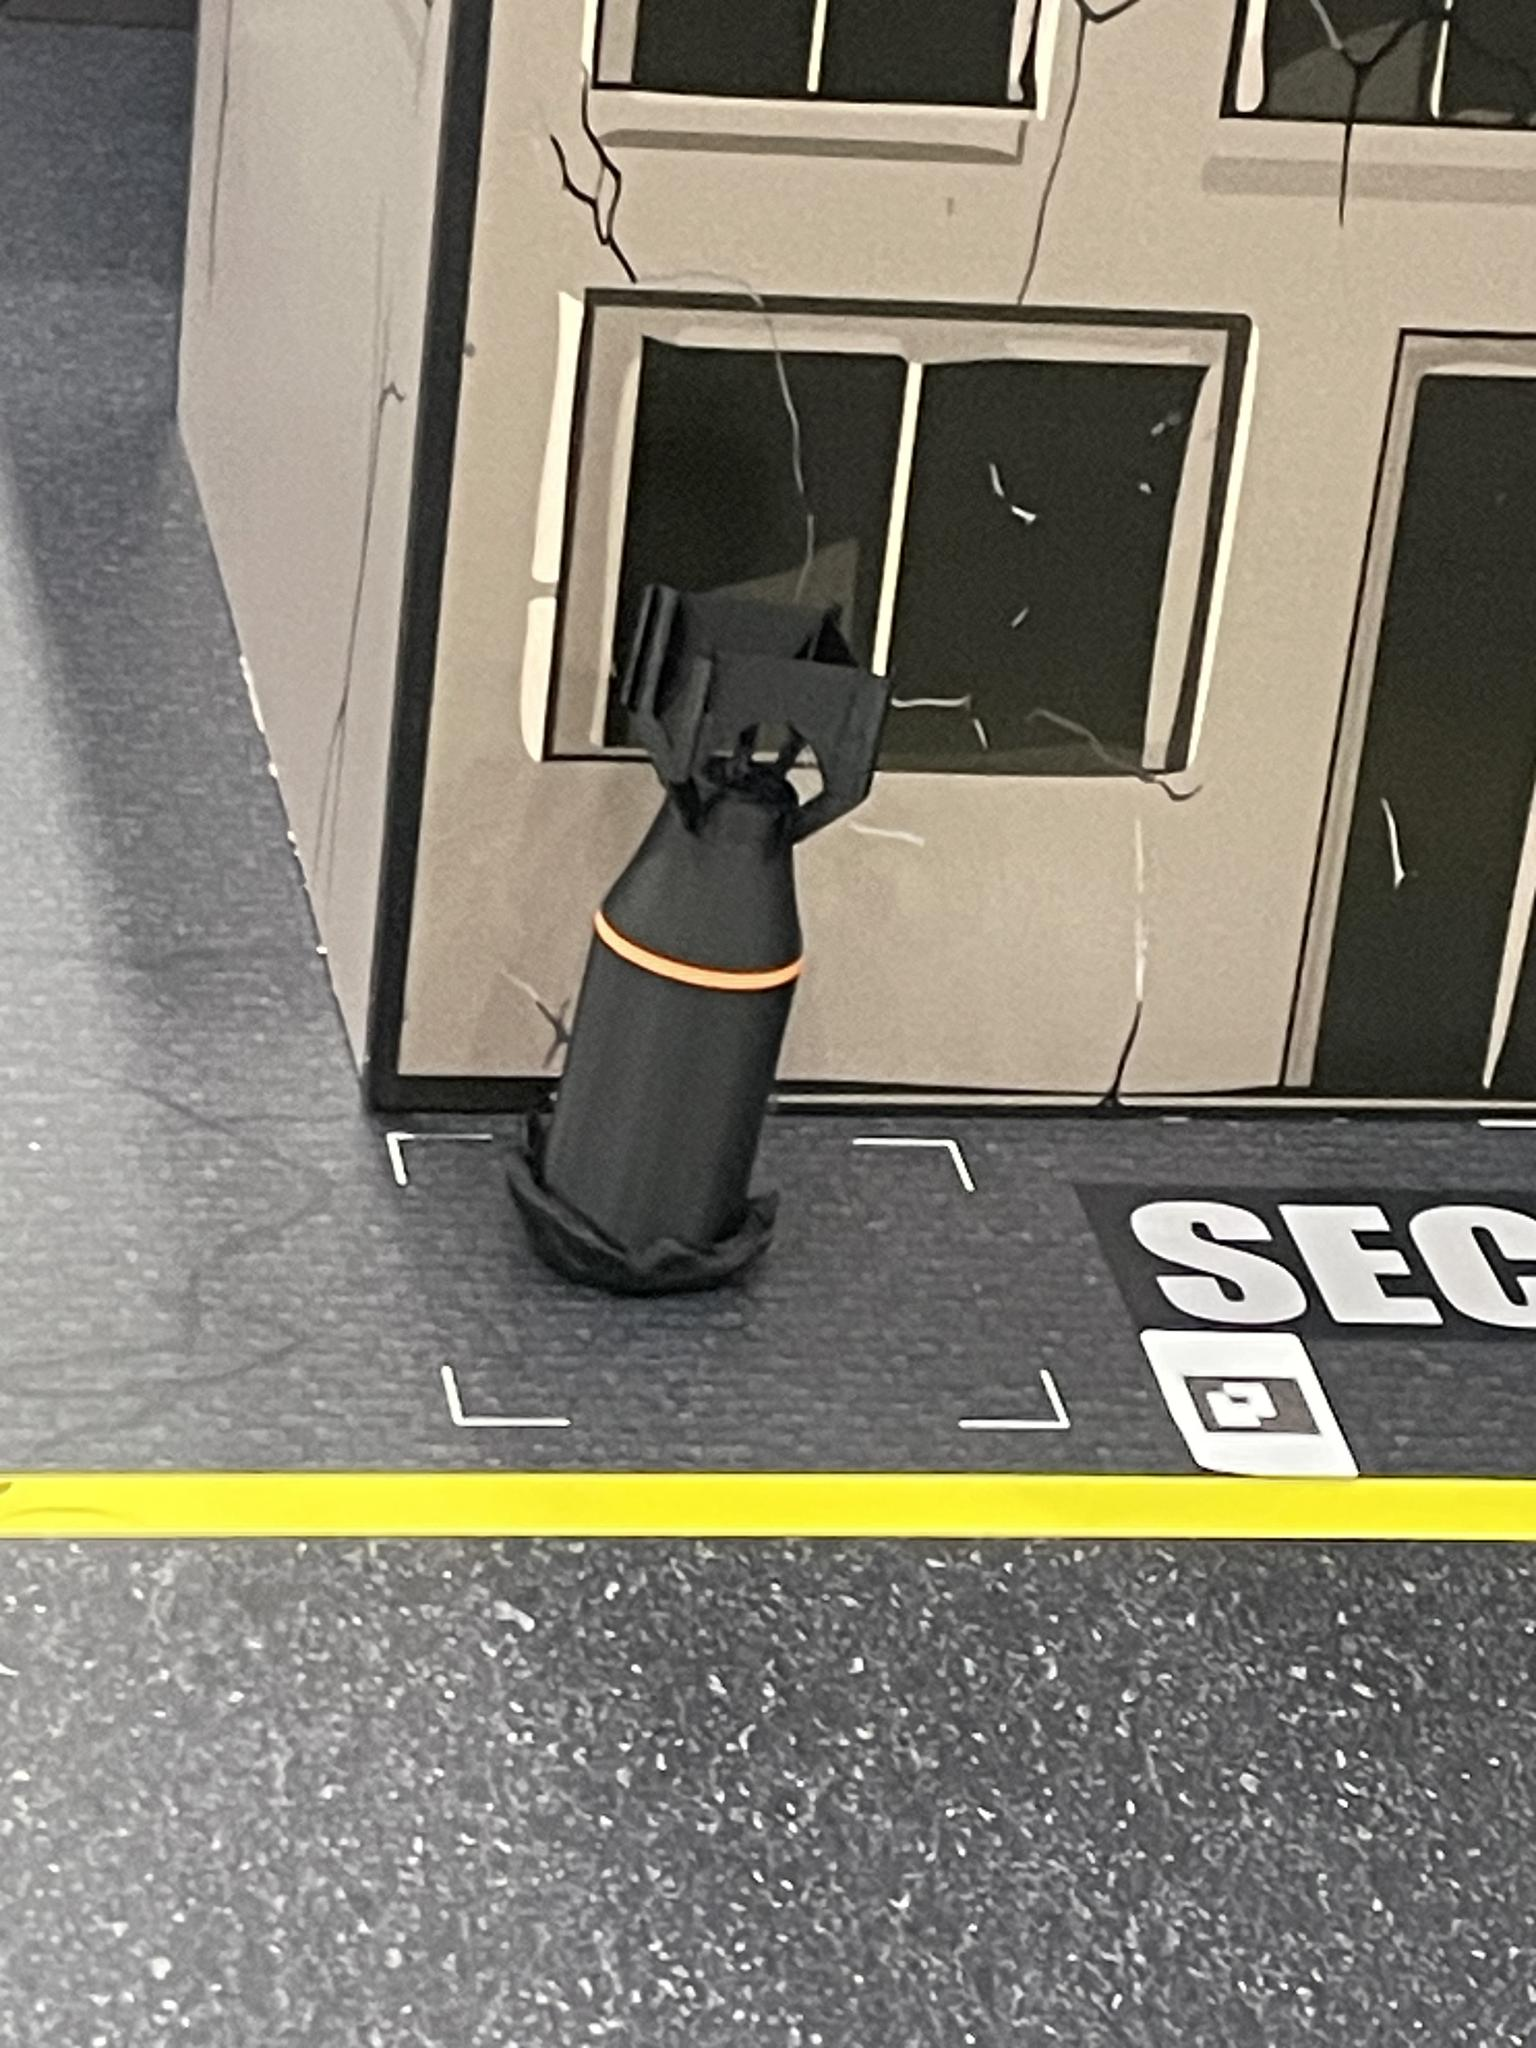Missile: (503, 566, 873, 1303)
